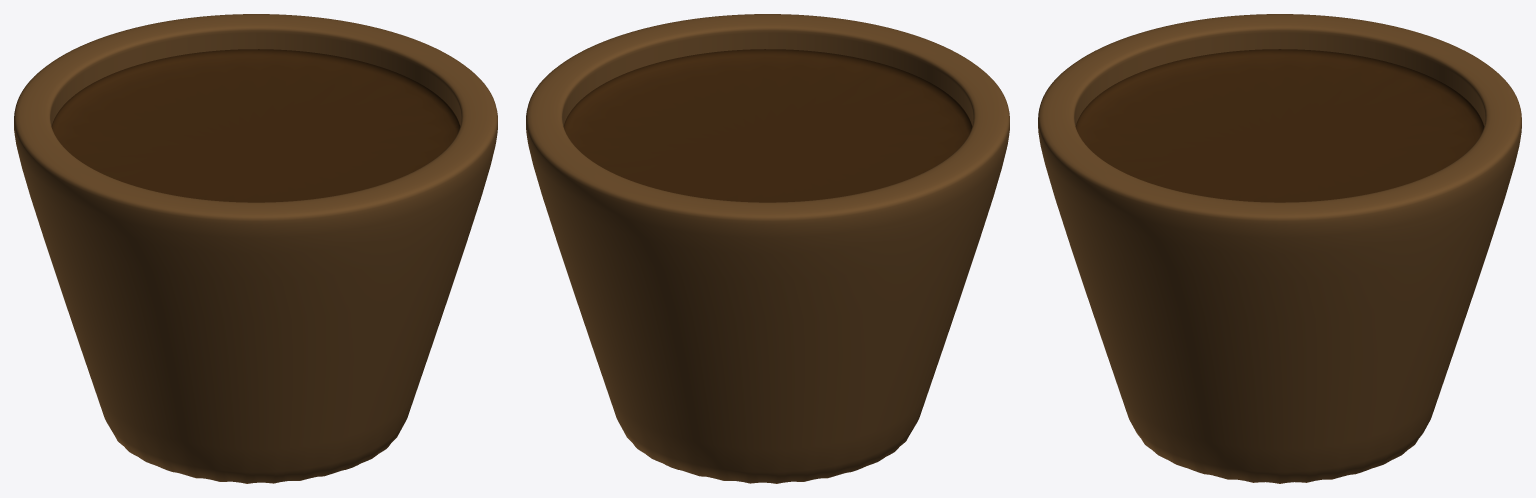
The model's file is FlowerPot.fbx.
3 views of the same model, side by side, from view 1: azimuth 30°, elevation 25°; view 2: azimuth 150°, elevation 25°; view 3: azimuth 270°, elevation 25° (orthographic).
Visible parts, largest first — view 1: Cylinder; view 2: Cylinder; view 3: Cylinder.
Part boxes in pixels (x1,y1,x2,y2): Cylinder: (14,14,497,483); Cylinder: (526,14,1009,483); Cylinder: (1038,14,1521,483).
Bounding box in the file's own units: 233 × 167 × 233.
